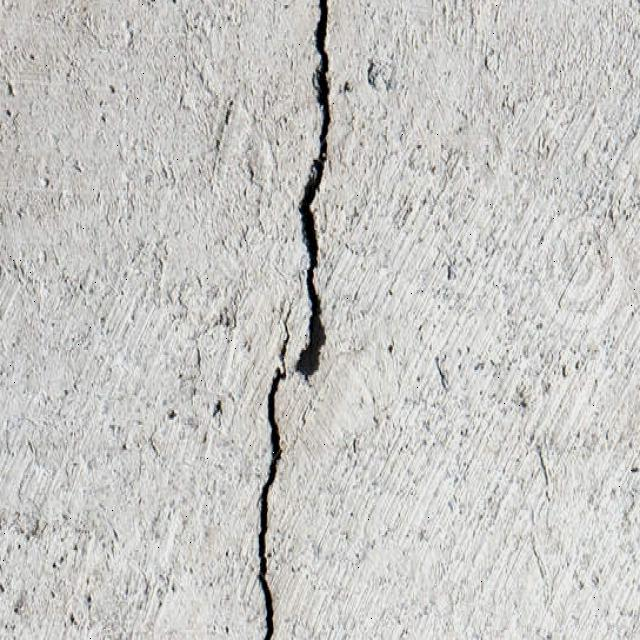crack: (252, 0, 333, 639)
